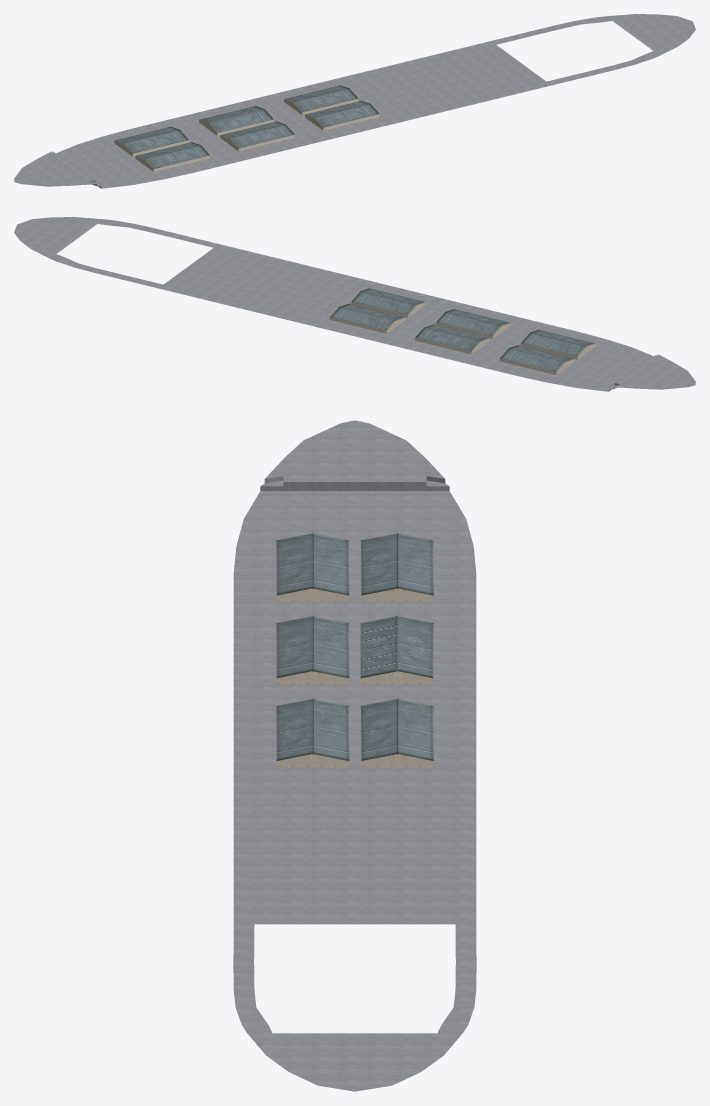
Rendered from car_ship_05_sfse.obj.
3 renders of one model, top to bottom at view 1: azimuth 30°, elevation 25°; view 2: azimuth 150°, elevation 25°; view 3: azimuth 270°, elevation 25°, orthographic. The views are drawn at different scales.
Parts seen in each view (by area): view 1: car_ship_05_SFSe; view 2: car_ship_05_SFSe; view 3: car_ship_05_SFSe.
Part boxes in pixels (x1,y1,x2,y2): car_ship_05_SFSe: (14, 14, 695, 188); car_ship_05_SFSe: (14, 217, 695, 391); car_ship_05_SFSe: (233, 420, 476, 1091).
Bounding box in the file's own units: 222 × 2.02 × 34.48.
Materials: 3 (3 with a texture image).
